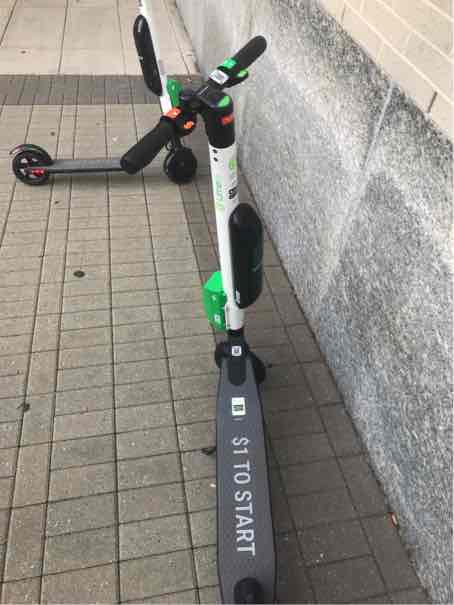scooter: (112, 29, 304, 605)
